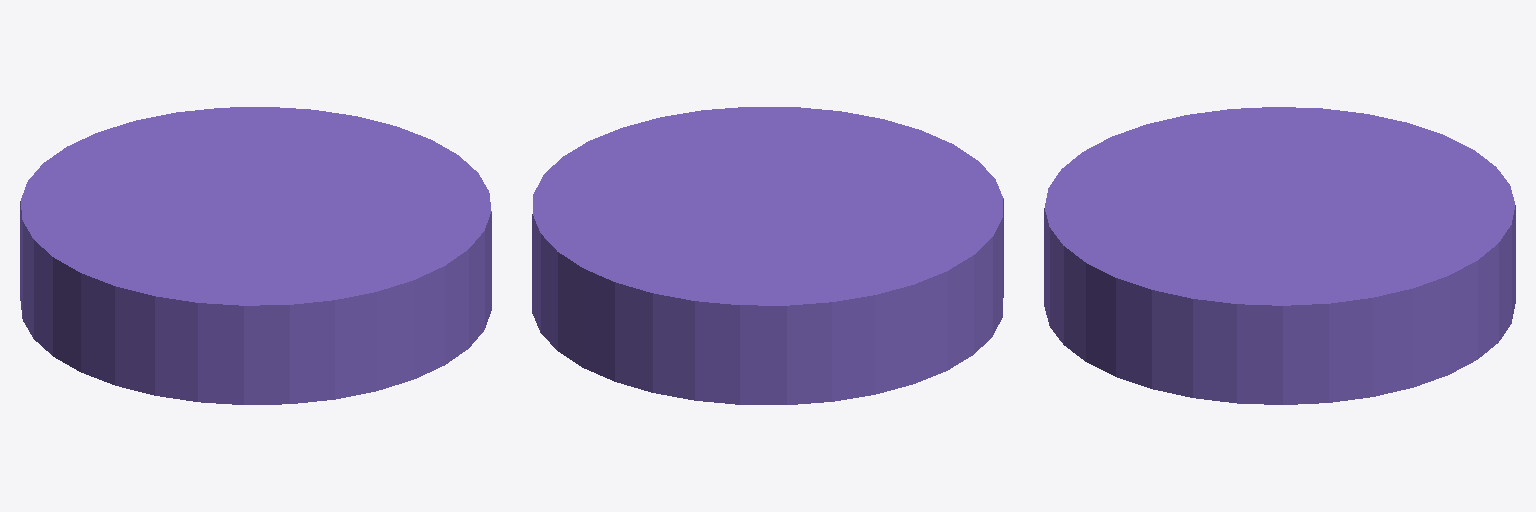
robot.urdf — Interference:
<?xml version="1.0"?>
<robot name="Interference">
  <link name="baseLink">
    <inertial>
      <origin xyz="0.0 0.0 0.0" rpy="0.0 0.0 0.0"/>
      <inertia ixx="0.0" ixy="0.0" ixz="0.0" iyy="0.0" iyz="0.0" izz="0.0"/>
      <mass value="0"/>
    </inertial>
    <visual>
      <origin xyz="0.0 0.0 0.0" rpy="0.0 0.0 0.20974316244463775"/>
      <geometry>
        <cylinder radius="0.021498078891745466" length="0.01"/>
      </geometry>
      <material name="color">
        <color rgba="0.5605275698757782 0.4664426691290461 0.8147970833266165 1.0"/>
      </material>
    </visual>
  </link>
</robot>

--- Render facts (derived) ---
Views: 3 orthographic renders of the robot side by side, from view 1: azimuth 30°, elevation 25°; view 2: azimuth 150°, elevation 25°; view 3: azimuth 270°, elevation 25°.
Model Interference with 1 links and 0 joints (none), rooted at baseLink, posed all joints at 0.
Visible links, largest first — view 1: baseLink; view 2: baseLink; view 3: baseLink.
Boxes of the visible links, x1,y1,x2,y2 form: baseLink: (20,107,491,404); baseLink: (532,107,1003,404); baseLink: (1044,107,1515,404).
Size in the robot's own frame: 0.043 by 0.043 by 0.01 metres.
Geometry: primitives only (box / cylinder / sphere), no mesh files.